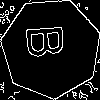B: (26, 23, 74, 60)
